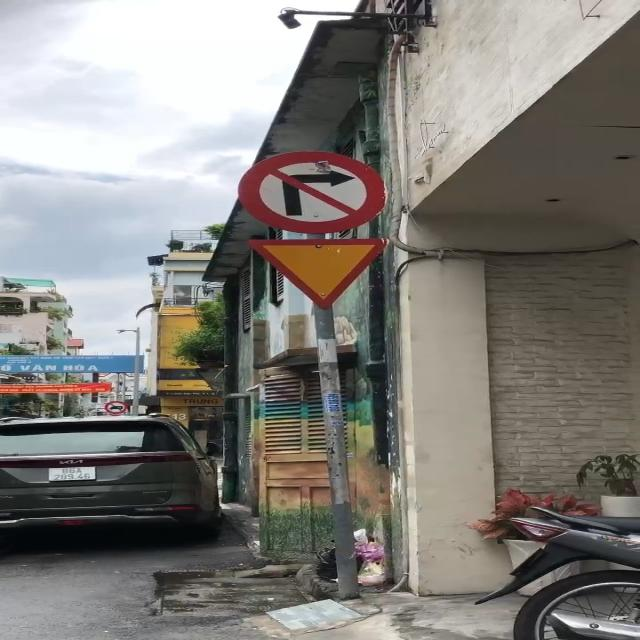Bien bao cam re phai: (237, 146, 399, 234)
Bien bao giao nhau voi duong uu tien: (238, 234, 413, 313)
